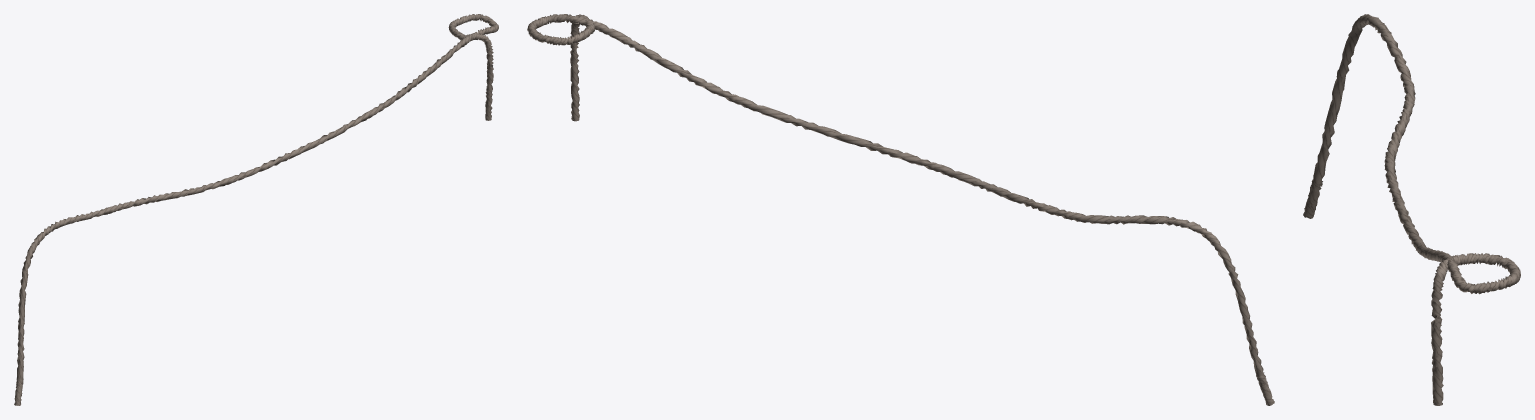
File: SM_RopeSplineMesh_Splines_35.fbx
The picture shows the model from 3 angles, left to right: view 1: azimuth 30°, elevation 25°; view 2: azimuth 150°, elevation 25°; view 3: azimuth 270°, elevation 25°; orthographic projection. The views are drawn at different scales.
Parts seen in each view (by area): view 1: SM_RopeSplineMesh_Splines_35; view 2: SM_RopeSplineMesh_Splines_35; view 3: SM_RopeSplineMesh_Splines_35.
Part boxes in pixels (left/top/right/bottom): SM_RopeSplineMesh_Splines_35: left=14, top=14, right=498, bottom=405; SM_RopeSplineMesh_Splines_35: left=527, top=14, right=1274, bottom=405; SM_RopeSplineMesh_Splines_35: left=1303, top=14, right=1520, bottom=405.
Size of the model in its own units: 216 by 48.06 by 84.46.
